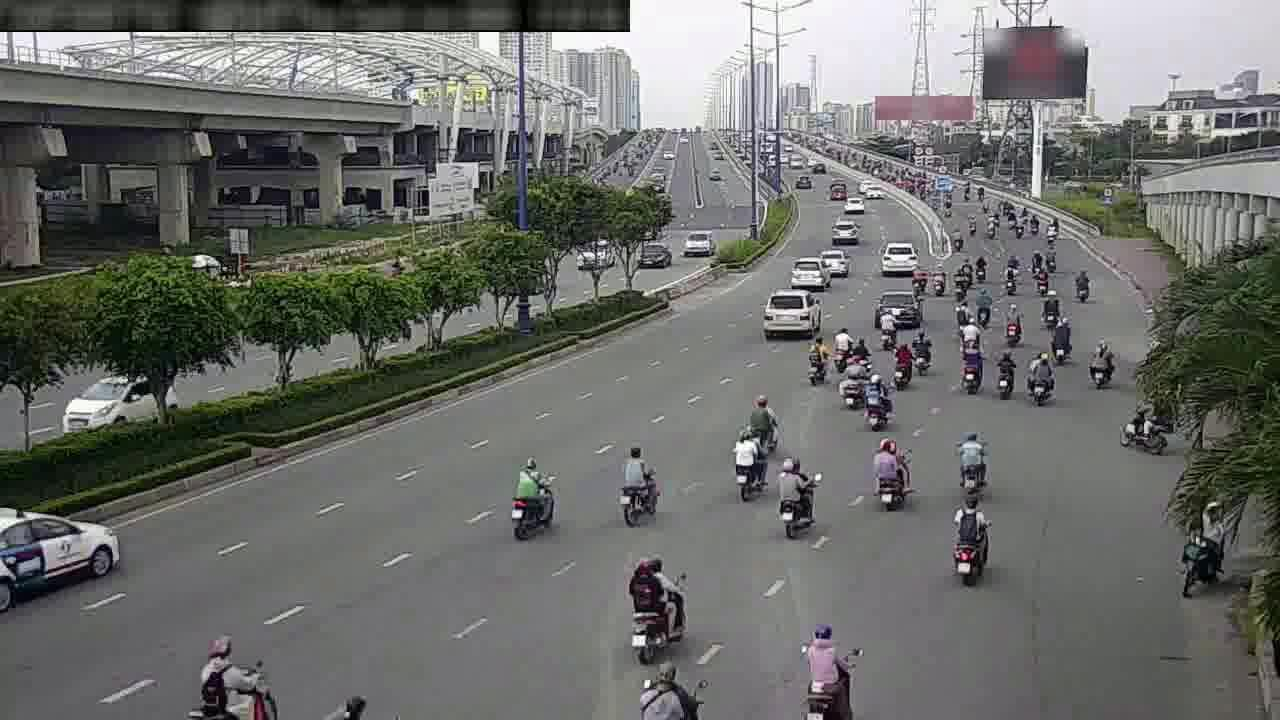container: (0, 504, 127, 600), (761, 285, 821, 339), (868, 285, 923, 328), (874, 236, 919, 276), (785, 254, 829, 290), (814, 246, 855, 279)
motorbike: (191, 636, 279, 716), (623, 553, 690, 656), (502, 453, 561, 540), (799, 622, 856, 705), (608, 443, 661, 525), (941, 503, 994, 580), (642, 655, 705, 716), (772, 457, 819, 536), (863, 437, 912, 510), (725, 425, 769, 500), (1120, 393, 1170, 458), (948, 430, 994, 496), (742, 394, 782, 455), (1083, 336, 1119, 392), (859, 378, 893, 432), (834, 358, 868, 411), (799, 336, 832, 387), (955, 341, 987, 392), (988, 348, 1019, 400), (885, 339, 916, 388), (1028, 350, 1054, 406), (1046, 320, 1077, 365), (910, 329, 938, 374), (829, 321, 856, 366), (999, 305, 1027, 345), (873, 312, 900, 352), (1069, 267, 1097, 305), (851, 333, 876, 375), (957, 316, 984, 352), (1039, 292, 1064, 330), (972, 288, 996, 325), (925, 264, 950, 298), (1032, 266, 1054, 298), (950, 267, 970, 298), (1001, 264, 1019, 296)
